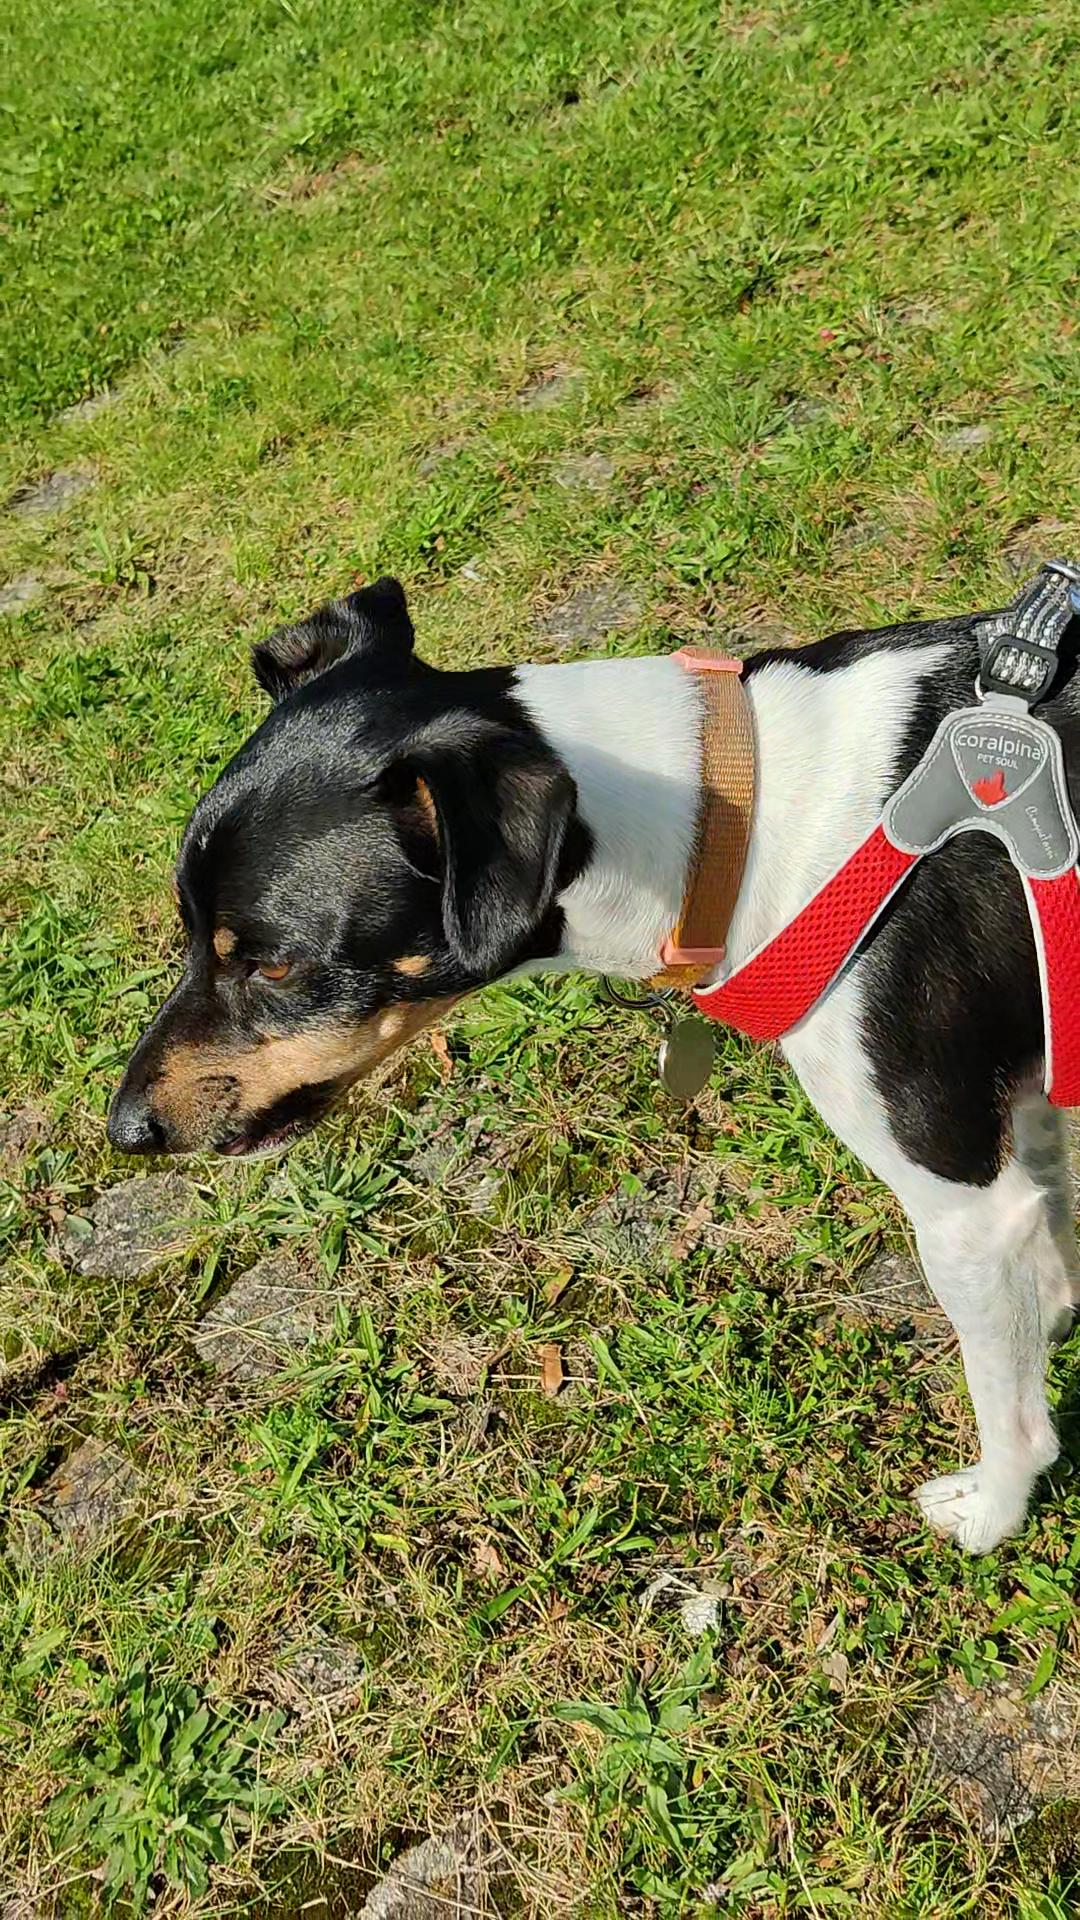Dog: (73, 533, 1079, 1561)
